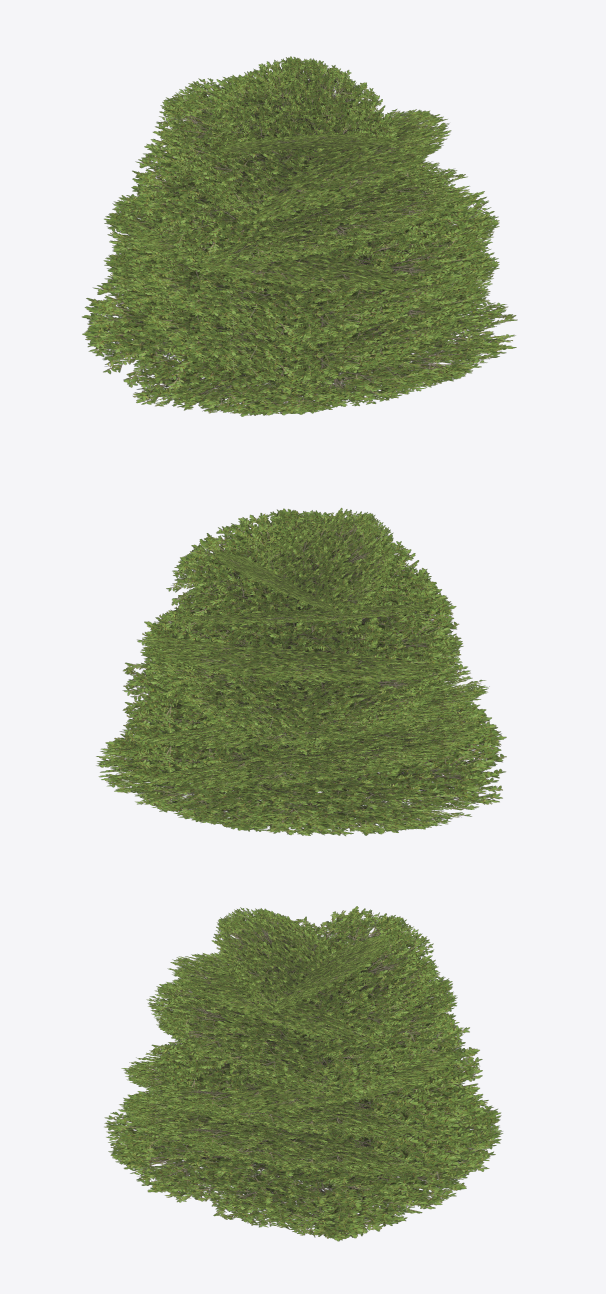
Rendered from Елка.glb.
3 views of the same model, one above another, from view 1: azimuth 30°, elevation 25°; view 2: azimuth 150°, elevation 25°; view 3: azimuth 270°, elevation 25° (orthographic). The views are drawn at different scales.
Parts seen in each view (by area): view 1: maf.4515; view 2: maf.4515; view 3: maf.4515.
Part boxes in pixels (bbox=[...]): maf.4515: bbox=[82, 56, 517, 416]; maf.4515: bbox=[96, 508, 506, 835]; maf.4515: bbox=[104, 906, 502, 1241].
Size of the model in its own units: 10.61 by 5.06 by 10.61.
Materials: 1 (1 with a texture image).
